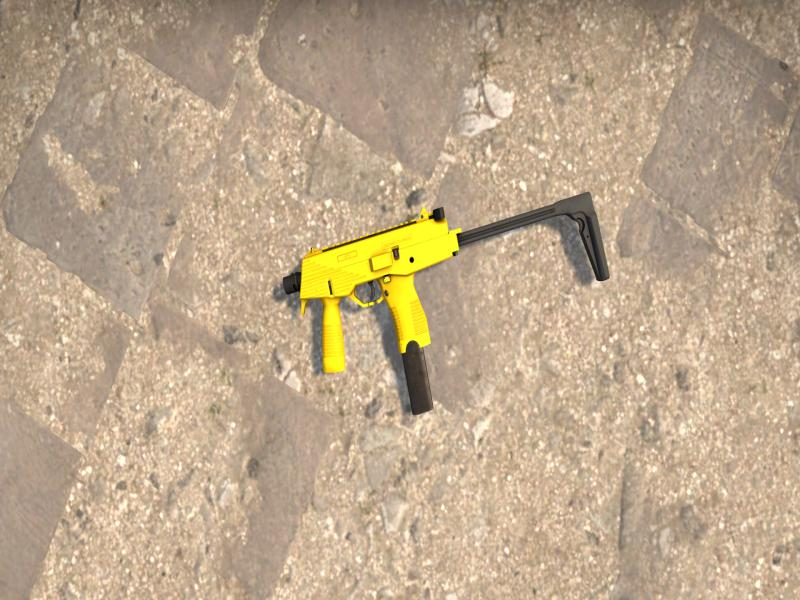MP9: (283, 192, 610, 414)
